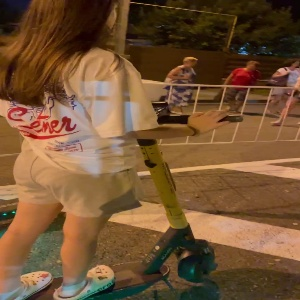human on a scooter: (1, 1, 244, 300)
